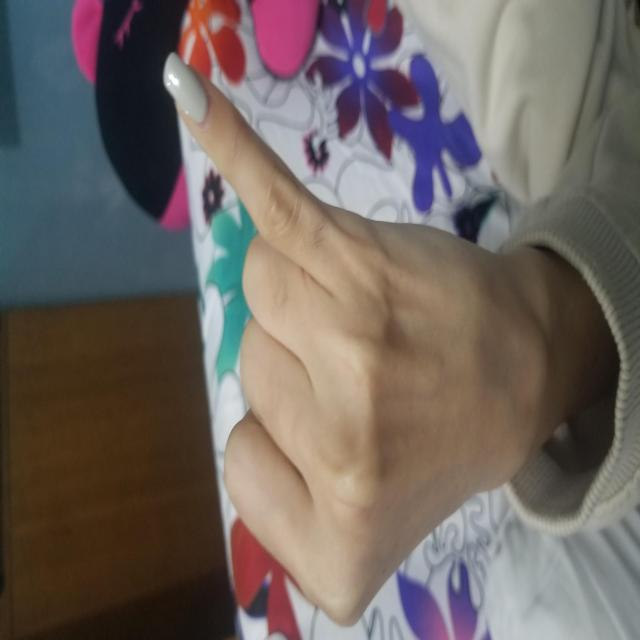J: (10, 161, 589, 539)
